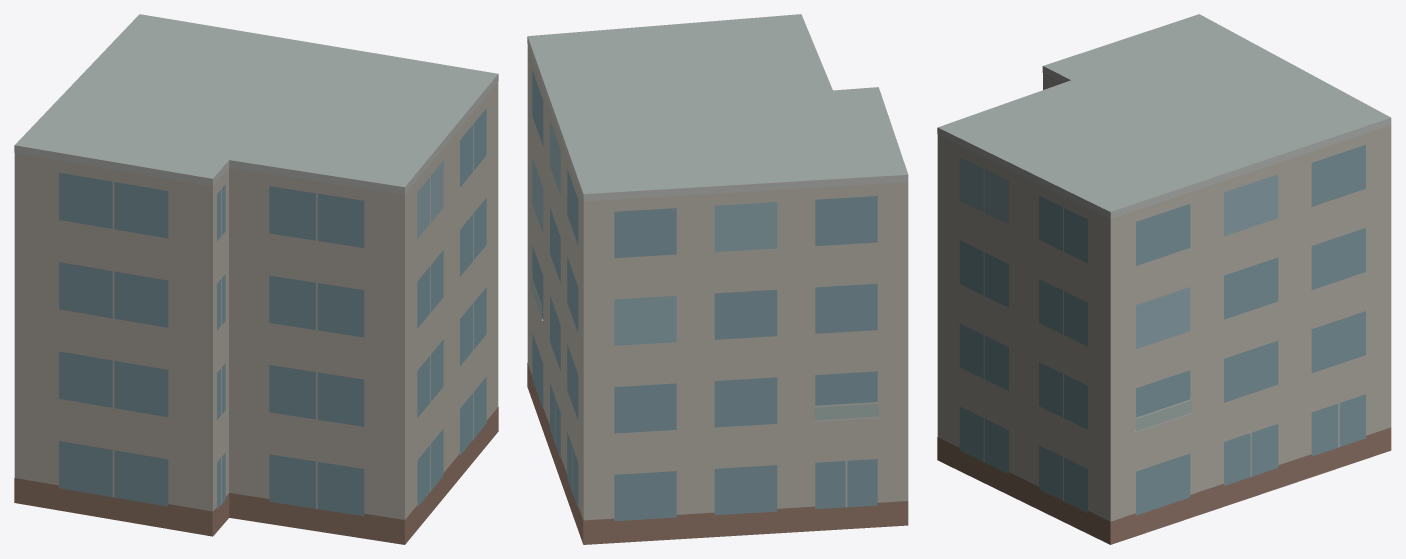
Rendered from survey-upis-32680062.glb.
The picture shows the model from 3 angles, left to right: view 1: azimuth 30°, elevation 25°; view 2: azimuth 150°, elevation 25°; view 3: azimuth 270°, elevation 25°; orthographic projection. The views are drawn at different scales.
Visible parts, largest first — view 1: survey-upis-32680062.tmp; view 2: survey-upis-32680062.tmp; view 3: survey-upis-32680062.tmp.
Boxes of the visible parts, box(x1,y1,x2,y2) form: survey-upis-32680062.tmp: box(14, 14, 498, 544); survey-upis-32680062.tmp: box(527, 14, 908, 544); survey-upis-32680062.tmp: box(937, 14, 1391, 544).
Bounding box in the file's own units: 14.81 × 11.6 × 14.34.
